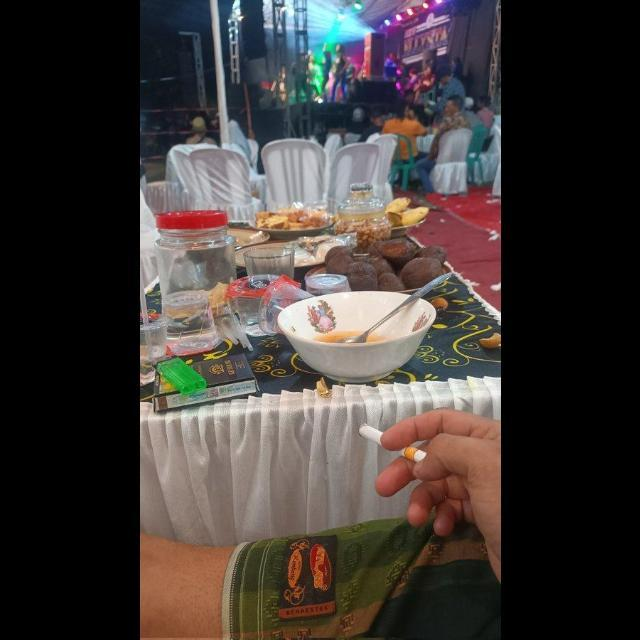rokok: (354, 414, 426, 460)
